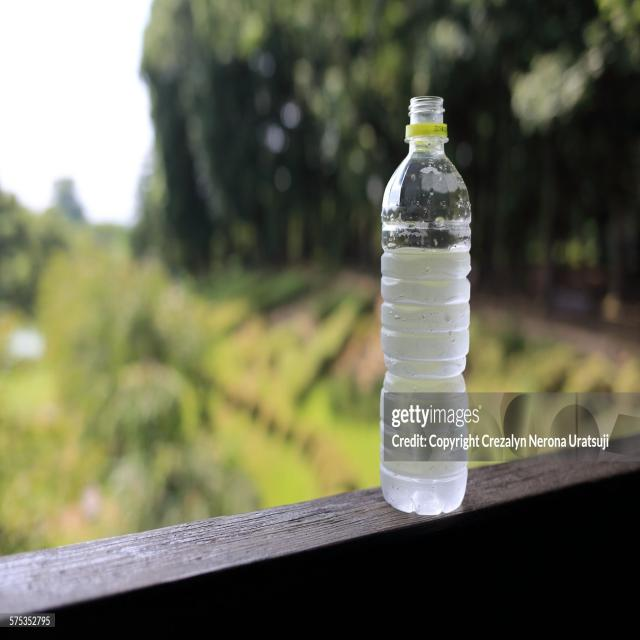bottle: (378, 92, 472, 522)
